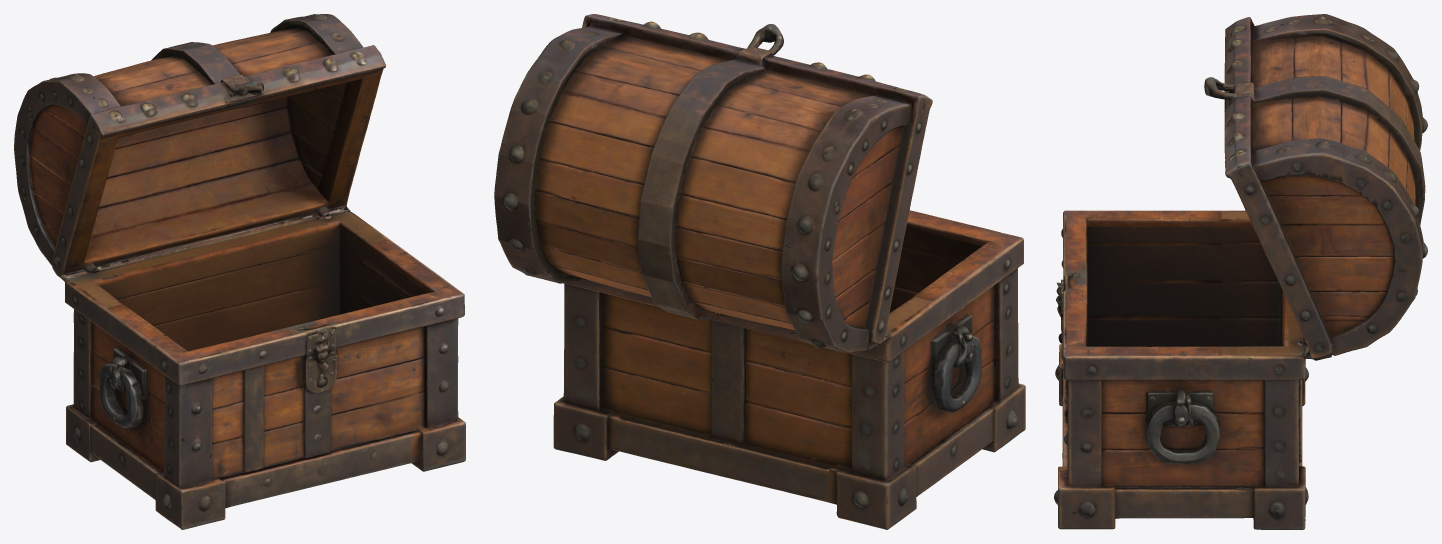
The model's file is Treasure_s_Grasp_0723212745_texture.fbx.
The picture shows the model from 3 angles, left to right: view 1: azimuth 30°, elevation 25°; view 2: azimuth 150°, elevation 25°; view 3: azimuth 270°, elevation 25°; orthographic projection. The views are drawn at different scales.
Parts seen in each view (by area): view 1: Mesh_0; view 2: Mesh_0; view 3: Mesh_0.
Part boxes in pixels (<box>): Mesh_0: <box>14,14,465,529</box>; Mesh_0: <box>494,14,1025,529</box>; Mesh_0: <box>1054,14,1427,529</box>.
Bounding box in the file's own units: 178 × 200 × 178.
Materials: 1 (1 with a texture image).
